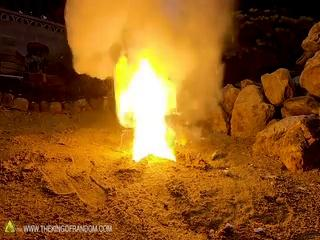Fire: (111, 54, 184, 161)
